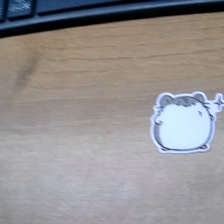mouse: (149, 87, 224, 157)
